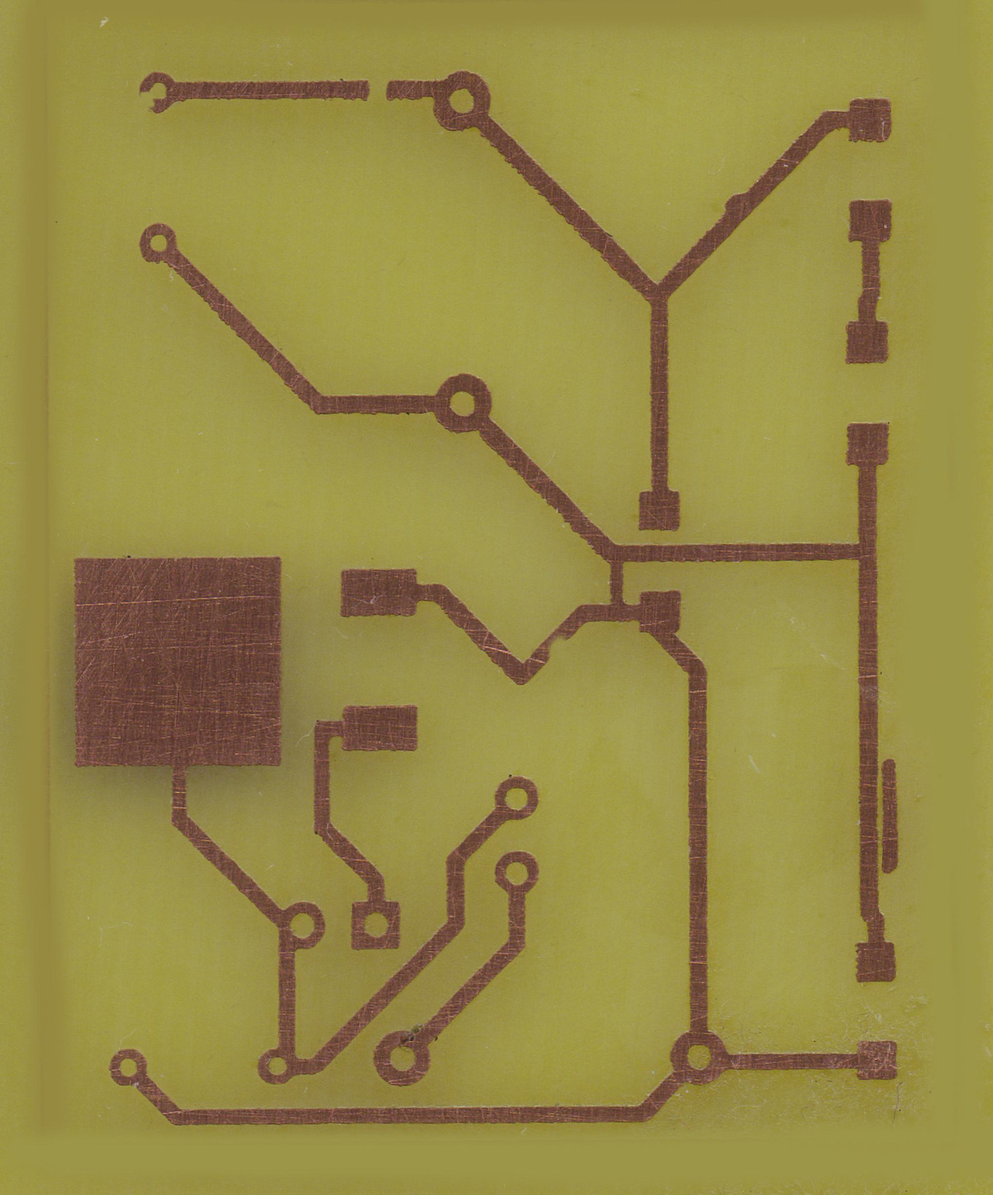missing_hole: (139, 71, 177, 114)
mouse_bite: (547, 632, 568, 662)
open_circuit: (356, 80, 399, 100)
short: (600, 544, 633, 622)
spur: (722, 191, 750, 221)
spurious_copper: (880, 757, 901, 876)
